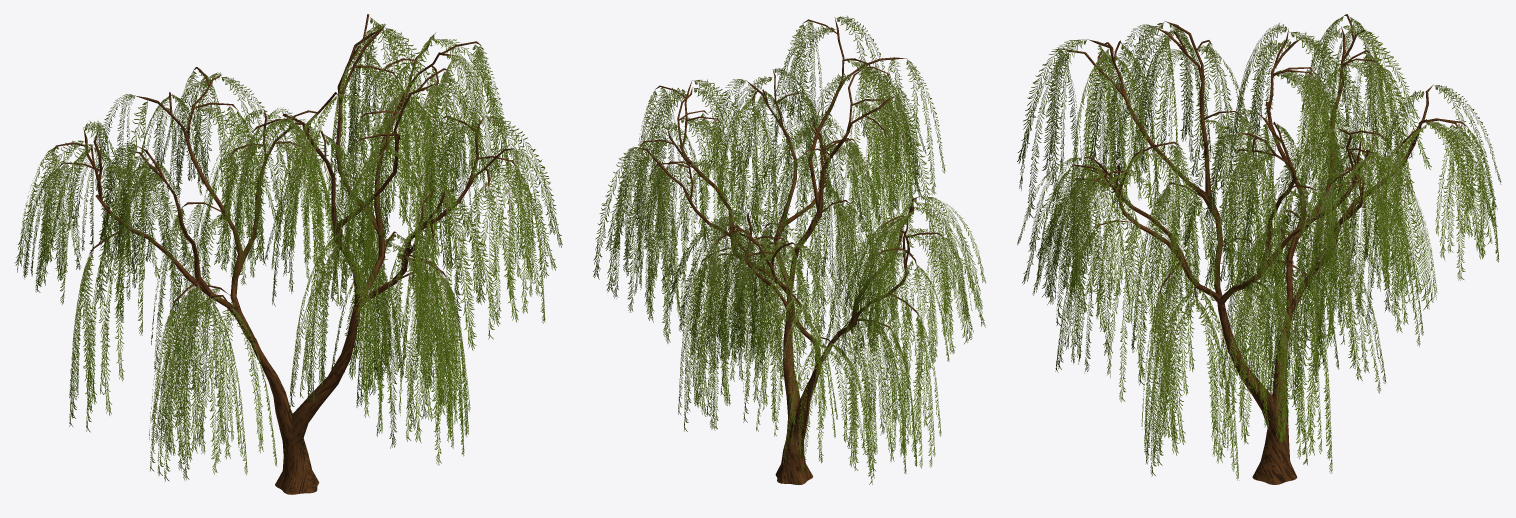
The model's file is WillowTree.glb.
The picture shows the model from 3 angles, left to right: view 1: azimuth 30°, elevation 25°; view 2: azimuth 150°, elevation 25°; view 3: azimuth 270°, elevation 25°; orthographic projection. The views are drawn at different scales.
Visible parts, largest first — view 1: WillowTree; view 2: WillowTree; view 3: WillowTree.
Boxes of the visible parts, bbox=[...] form: WillowTree: bbox=[15, 14, 562, 494]; WillowTree: bbox=[593, 16, 986, 484]; WillowTree: bbox=[1017, 14, 1501, 484].
Bounding box in the file's own units: 36.32 × 35.8 × 34.35.
2 materials, 2 textured.
